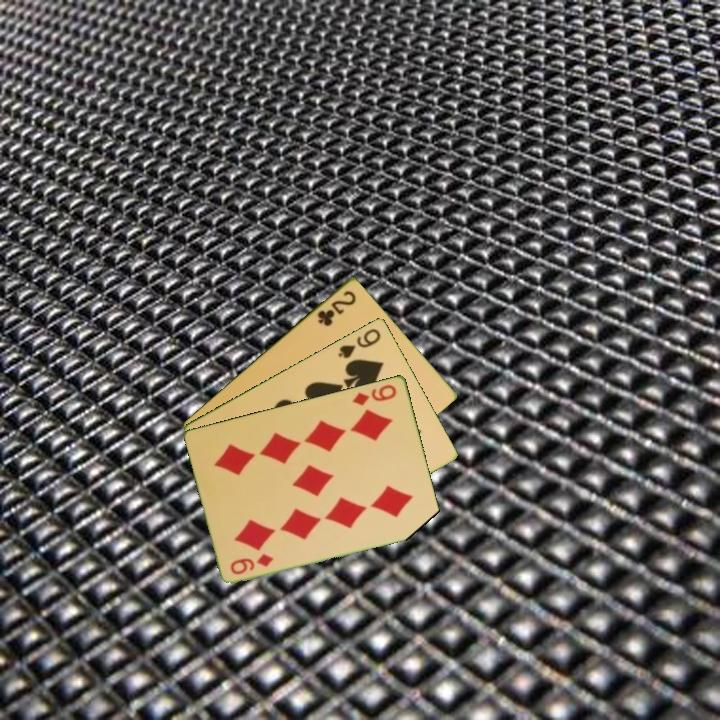2c: (314, 286, 359, 329)
9d: (349, 380, 399, 408), (227, 550, 276, 577)
9s: (334, 325, 384, 361)
